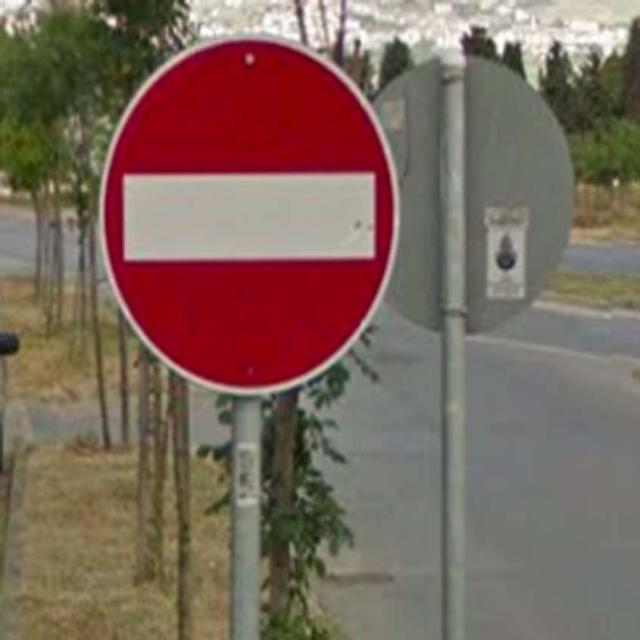girisyok: (98, 36, 398, 402)
